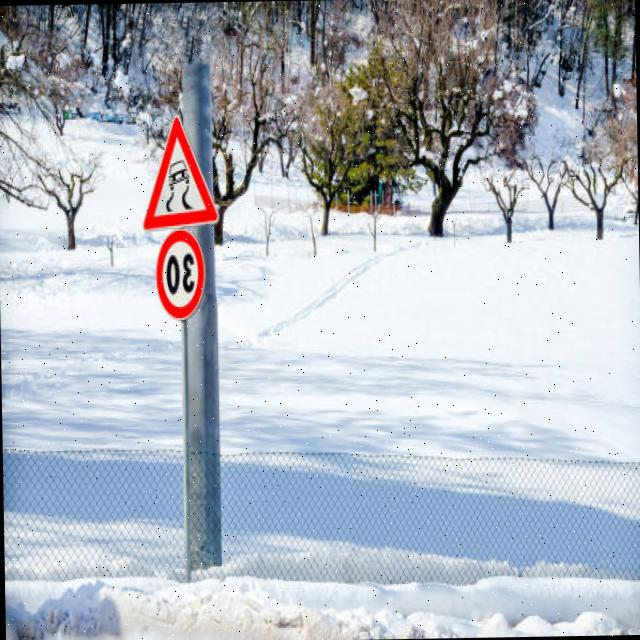road_slippery: (134, 105, 221, 232)
speed_limit_30: (142, 226, 217, 322)
